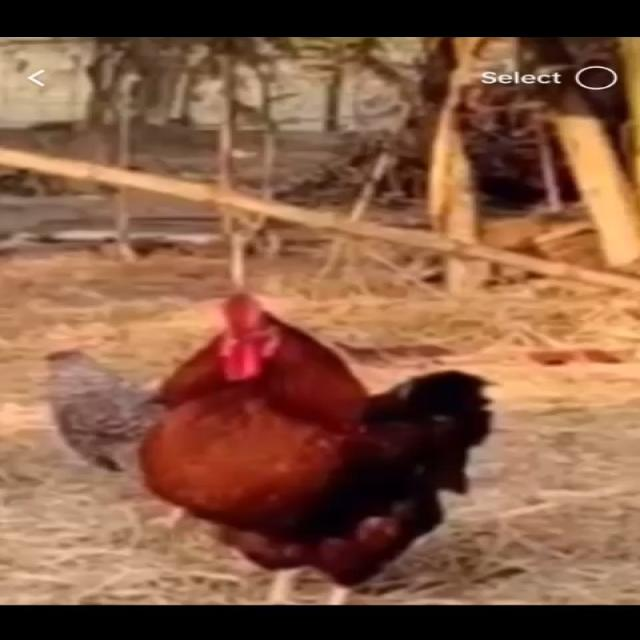wing flap: (30, 290, 553, 602)
